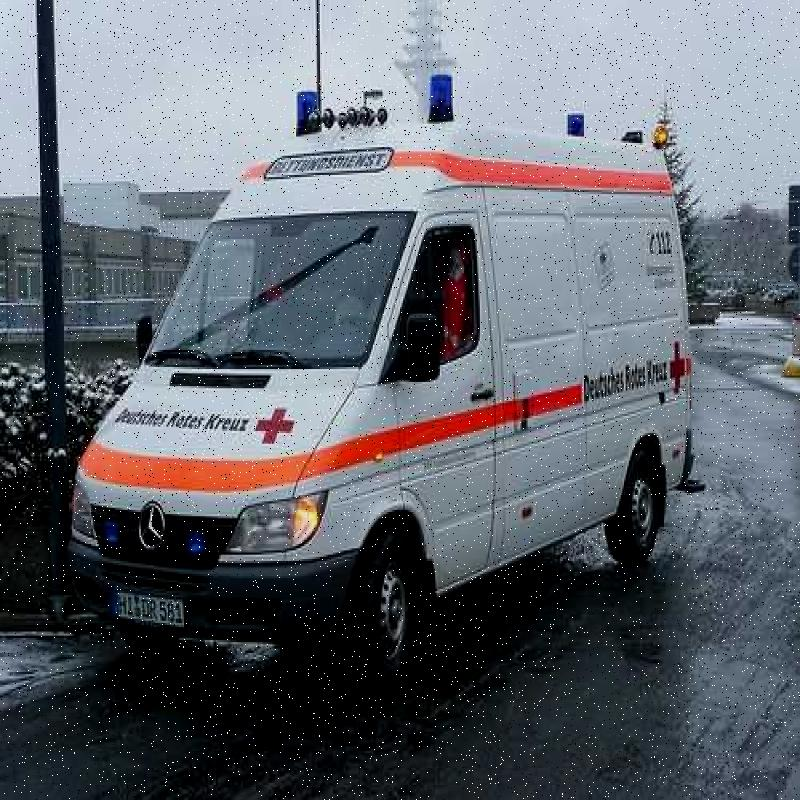AmbulanceSiren: (421, 61, 474, 141), (284, 86, 331, 147), (554, 91, 599, 149)
